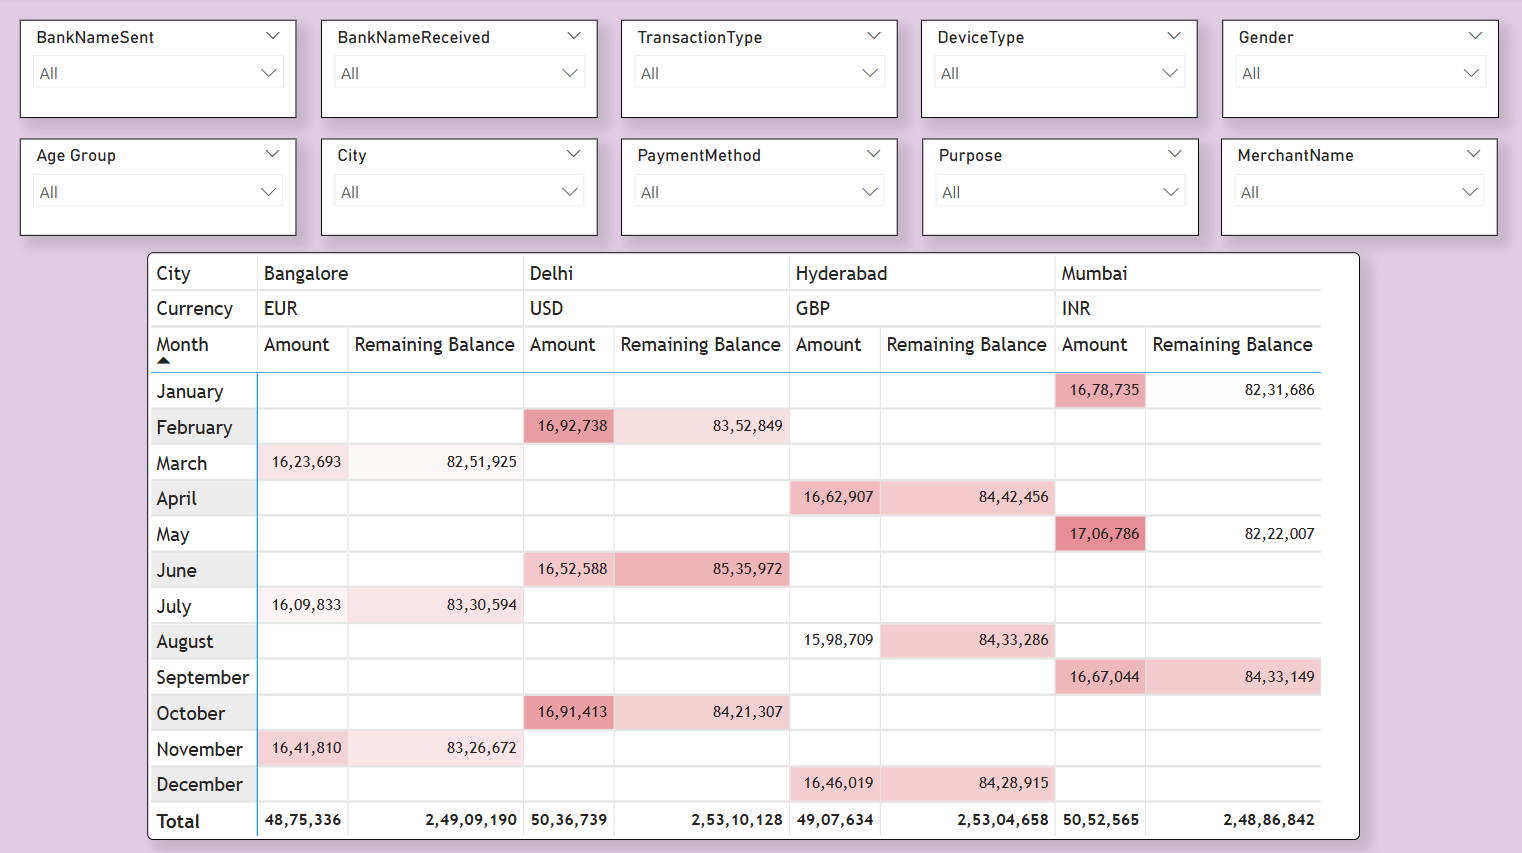

Layout of this report page (visuals, bound fields, positions):
{"tool":"powerbi","page":{"name":"Page 2","canvas":[1280,720],"ordinal":1},"visuals":[{"type":"slicer","fields":{"Values":["UPI_Transaction.BankNameSent"]},"box":[20,20,232,82],"z":0},{"type":"slicer","fields":{"Values":["UPI_Transaction.BankNameReceived"]},"box":[272,20,232,82],"z":1000},{"type":"slicer","fields":{"Values":["UPI_Transaction.TransactionType"]},"box":[524,20,232,82],"z":2000},{"type":"slicer","fields":{"Values":["UPI_Transaction.DeviceType"]},"box":[776,20,232,82],"z":3000},{"type":"slicer","fields":{"Values":["UPI_Transaction.Gender"]},"box":[1028,20,232,82],"z":4000},{"type":"slicer","fields":{"Values":["UPI_Transaction.Age Group"]},"box":[20.3,119.8,231.7,81.4],"z":5000},{"type":"slicer","fields":{"Values":["UPI_Transaction.City"]},"box":[272.4,119.8,231.7,81.4],"z":6000},{"type":"slicer","fields":{"Values":["UPI_Transaction.PaymentMethod"]},"box":[524.5,119.8,231.7,81.4],"z":7000},{"type":"slicer","fields":{"Values":["UPI_Transaction.Purpose"]},"box":[776.5,119.8,231.7,81.4],"z":8000},{"type":"slicer","fields":{"Values":["UPI_Transaction.MerchantName"]},"box":[1027.4,119.8,231.7,81.4],"z":9000},{"type":"pivotTable","fields":{"Values":["Sum(UPI_Transaction.Amount)","Sum(UPI_Transaction.RemainingBalance)"],"Rows":["UPI_Transaction.TransactionDate.Variation.Date Hierarchy.Month"],"Columns":["UPI_Transaction.City","UPI_Transaction.Currency"]},"box":[126.8,214.8,1016.6,492.6],"z":10000}]}

Visuals, with their boxes in screenshot pixels (x1, y1, x2, y2), scaled from the page's 1280x720 canvas onto the 1522x853 screenshot:
slicer - UPI_Transaction.BankNameSent: (x1=24, y1=24, x2=300, y2=121)
slicer - UPI_Transaction.BankNameReceived: (x1=323, y1=24, x2=599, y2=121)
slicer - UPI_Transaction.TransactionType: (x1=623, y1=24, x2=899, y2=121)
slicer - UPI_Transaction.DeviceType: (x1=923, y1=24, x2=1199, y2=121)
slicer - UPI_Transaction.Gender: (x1=1222, y1=24, x2=1498, y2=121)
slicer - UPI_Transaction.Age Group: (x1=24, y1=142, x2=300, y2=238)
slicer - UPI_Transaction.City: (x1=324, y1=142, x2=599, y2=238)
slicer - UPI_Transaction.PaymentMethod: (x1=624, y1=142, x2=899, y2=238)
slicer - UPI_Transaction.Purpose: (x1=923, y1=142, x2=1199, y2=238)
slicer - UPI_Transaction.MerchantName: (x1=1222, y1=142, x2=1497, y2=238)
pivotTable - Sum(UPI_Transaction.Amount) x Sum(UPI_Transaction.RemainingBalance): (x1=151, y1=254, x2=1360, y2=838)
